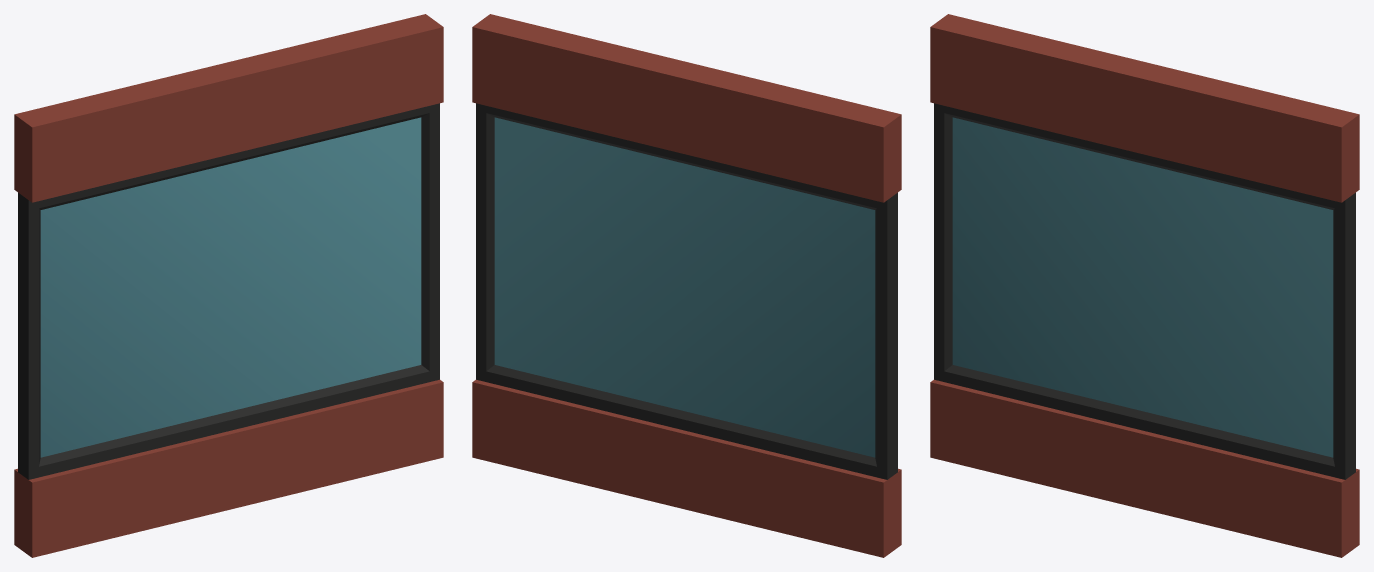
The model's file is trimWindowLong.fbx.
The picture shows the model from 3 angles, left to right: view 1: azimuth 30°, elevation 25°; view 2: azimuth 150°, elevation 25°; view 3: azimuth 330°, elevation 25°; orthographic projection.
Visible parts, largest first — view 1: trimWindowLong; view 2: trimWindowLong; view 3: trimWindowLong.
Boxes of the visible parts, x1,y1,x2,y2 form: trimWindowLong: [14, 14, 443, 557]; trimWindowLong: [472, 14, 901, 557]; trimWindowLong: [930, 14, 1359, 557].
Size of the model in its own units: 400 by 400 by 30.
Materials: 1 (1 with a texture image).
